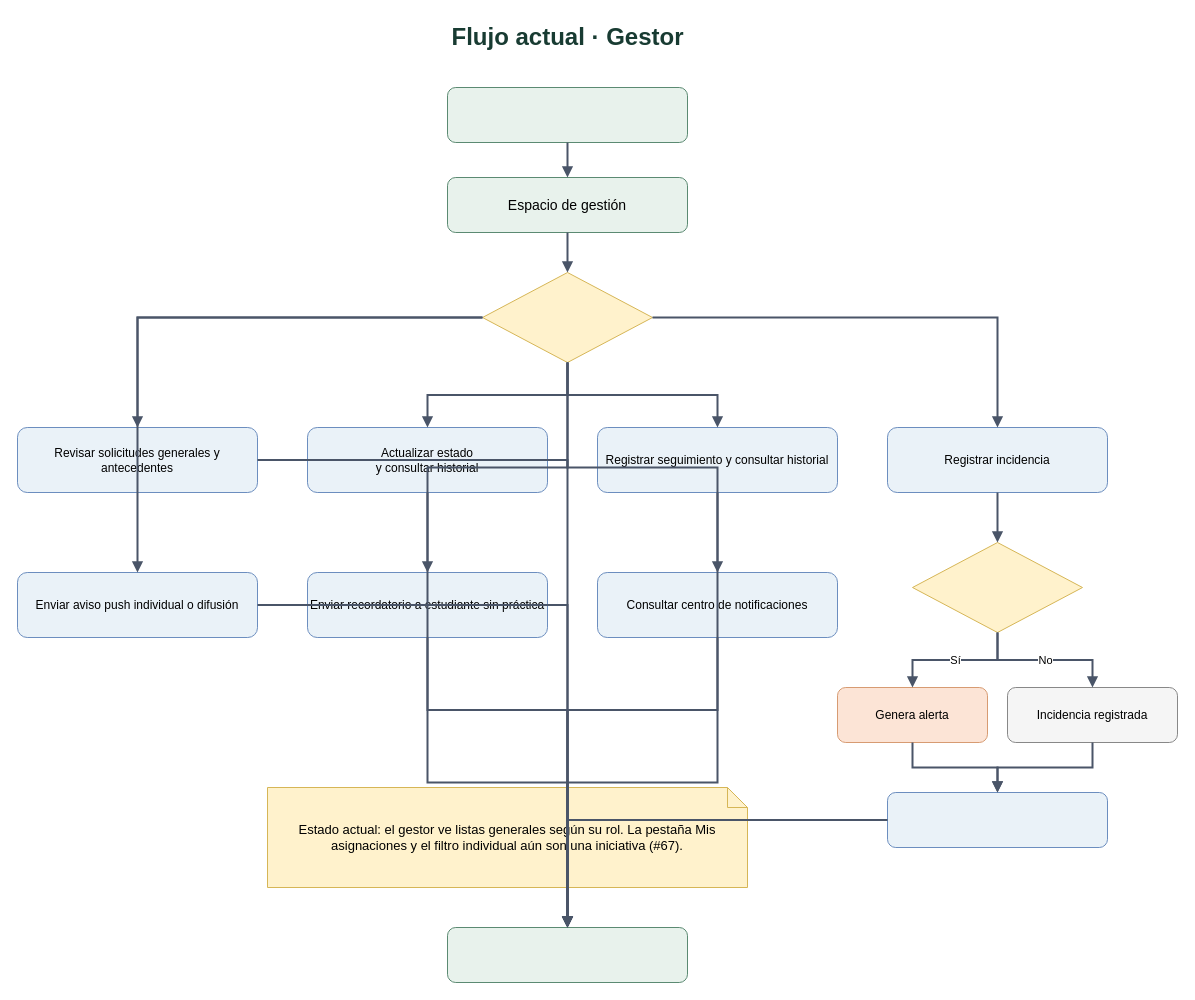
Image size: 1195x1000. Some labels were removed from this diagram. The shapes that lost their labels are listed below. From the top down, each one's centre as x and y in pixels, then its label:
At (x=567, y=114): "Inicia sesión".
At (x=567, y=317): "Elige tarea".
At (x=997, y=587): "¿Prioridad alta o crítica?".
At (x=997, y=820): "Actualizar estado de incidencia".
At (x=567, y=954): "Cierra sesión".
